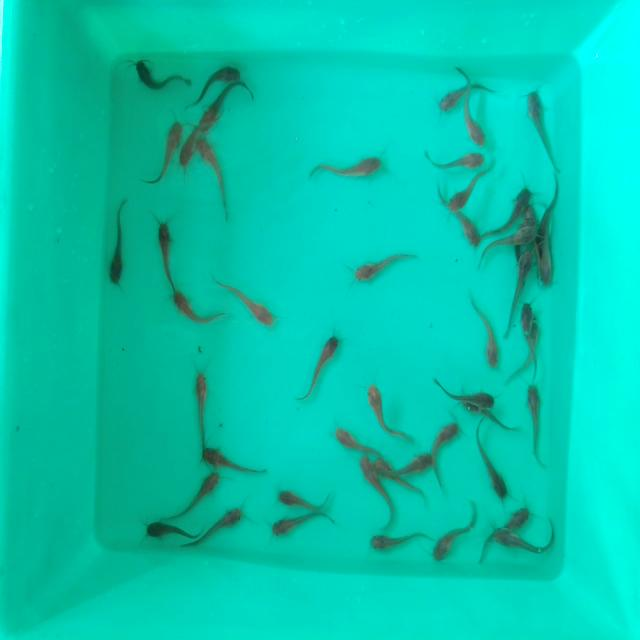lele: (366, 382, 413, 442), (526, 88, 562, 166), (223, 278, 277, 326), (476, 429, 511, 502), (304, 328, 339, 400), (198, 142, 232, 216), (431, 505, 475, 562), (359, 457, 395, 524), (199, 88, 252, 131), (197, 444, 270, 474), (356, 250, 415, 287), (171, 292, 230, 329), (146, 122, 182, 182), (195, 505, 243, 550), (374, 460, 424, 502), (471, 298, 500, 368), (314, 152, 386, 180), (526, 389, 550, 472), (434, 373, 482, 414), (480, 386, 520, 434), (176, 473, 220, 516), (266, 513, 338, 539), (199, 59, 243, 101), (328, 424, 385, 456), (434, 418, 460, 488), (132, 56, 189, 87), (440, 173, 488, 209), (498, 531, 558, 559), (511, 298, 532, 377), (537, 175, 560, 246), (507, 250, 533, 312), (497, 186, 532, 232), (107, 202, 126, 283), (190, 369, 210, 444), (154, 221, 177, 283), (142, 521, 202, 544), (437, 76, 475, 112), (492, 501, 532, 535), (461, 98, 489, 146), (178, 111, 202, 163), (478, 232, 521, 261), (280, 488, 336, 510), (427, 150, 484, 170), (368, 532, 424, 552), (453, 211, 481, 250), (397, 449, 432, 476), (530, 318, 544, 382), (538, 246, 556, 293), (522, 202, 536, 242)
